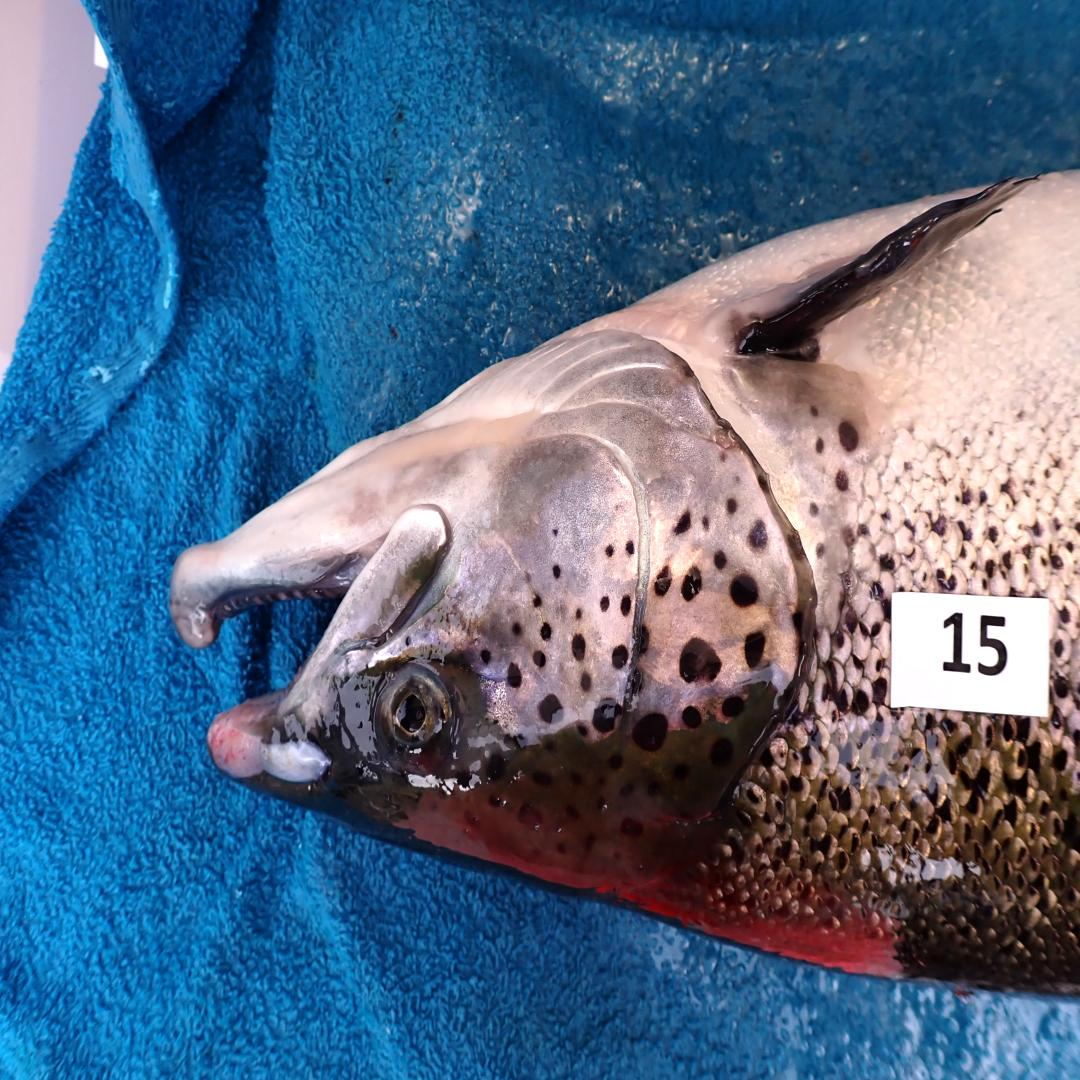roi: (443, 331, 807, 744)
